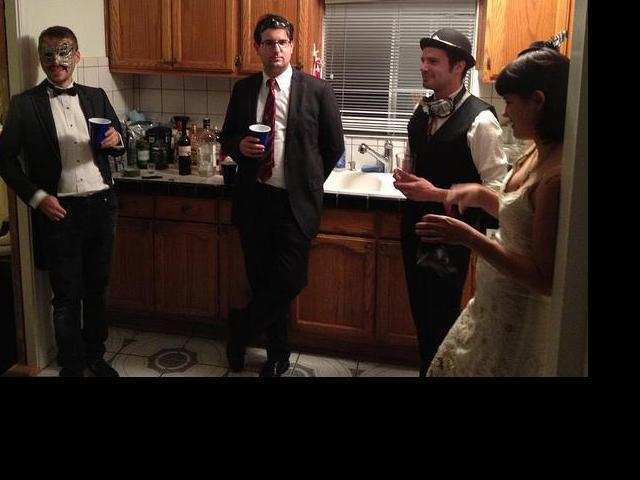Lavaplatos: (304, 134, 447, 201)
